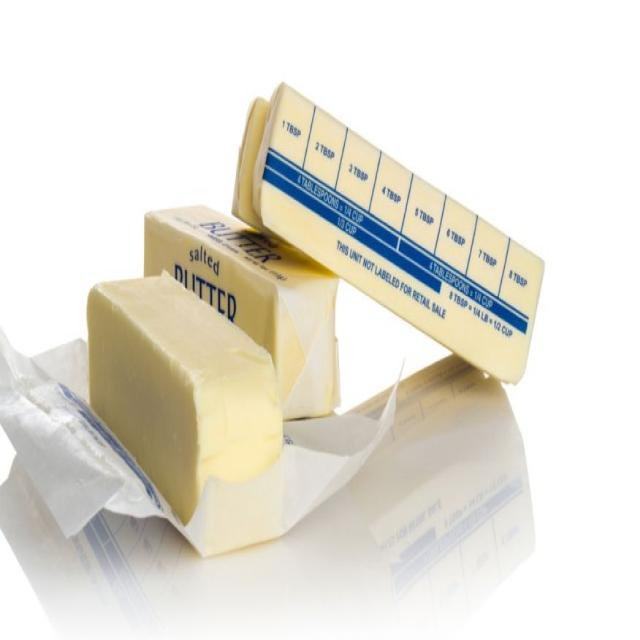Butter: (235, 78, 538, 395), (87, 273, 280, 527), (144, 199, 341, 435)
